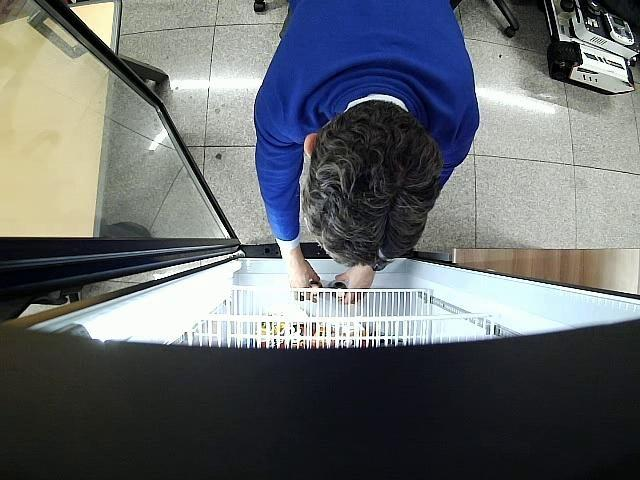17_vita500: (332, 282, 347, 298), (308, 281, 324, 295)
